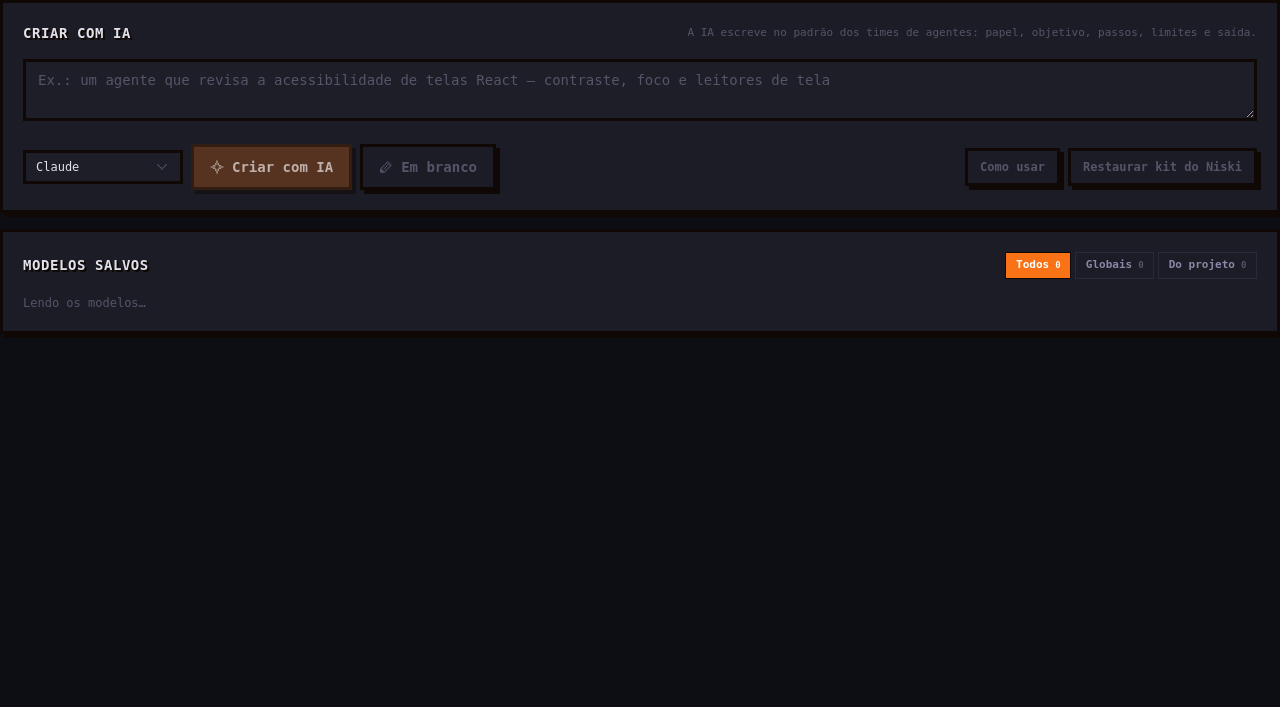
Test: abre a geração com IA para revisão antes de gravar
Expected: the button "Criar com IA" is disabled, x1=191 y1=144 x2=352 y2=190
Step 1. Type "Um revisor de telas acessíveis" into the text box named "Descreva o agente" → (640, 90), box x1=23 y1=59 x2=1257 y2=121
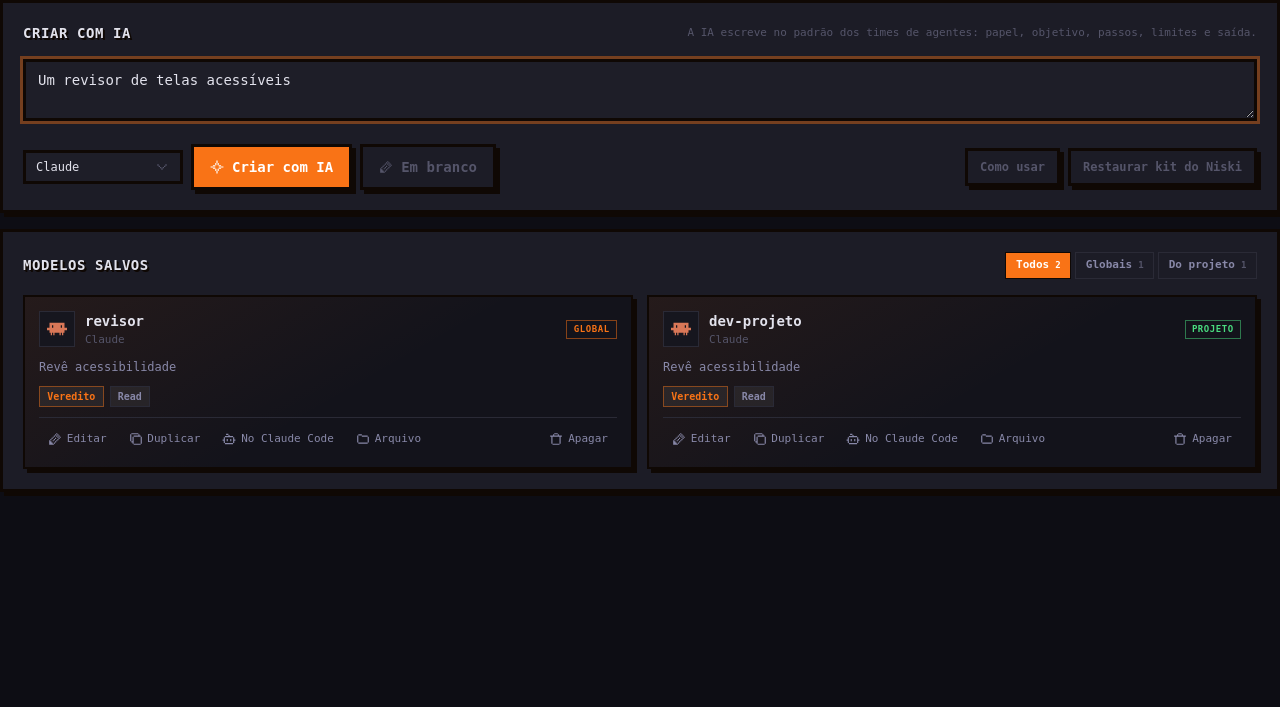
Step 2. Click the button "Criar com IA" → (272, 167), box x1=191 y1=144 x2=352 y2=190
(page scrolled)
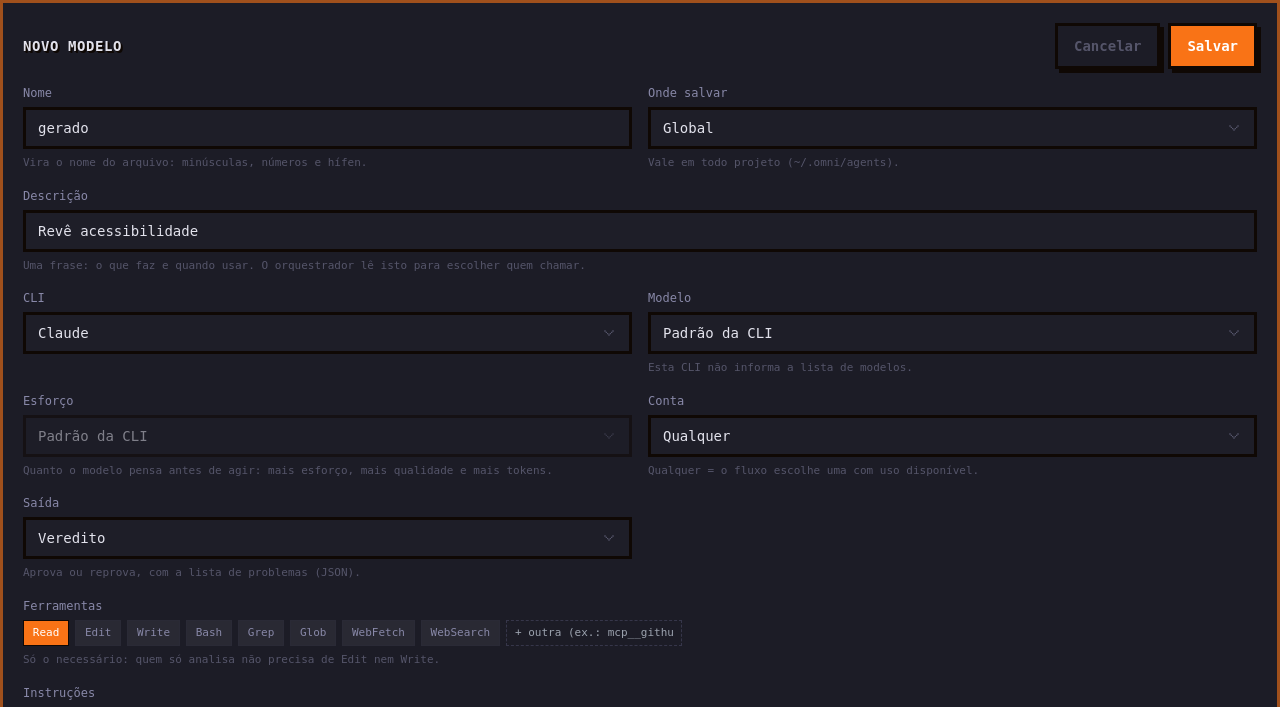
Result: the field labelled "Nome" holds "gerado" at x1=23 y1=107 x2=632 y2=149
Step 3. Click the button "Cancelar" → (1108, 46), box x1=1055 y1=23 x2=1160 y2=69
(page scrolled)
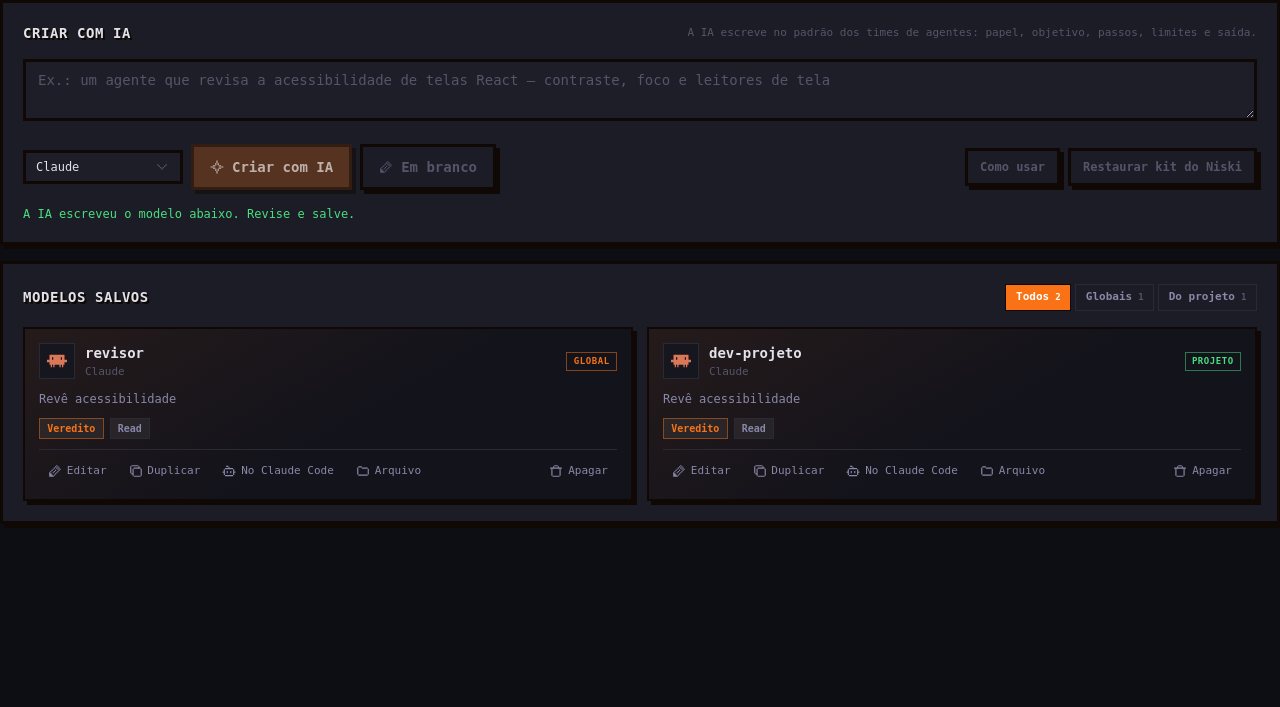
Result: the label "Nome" is gone
